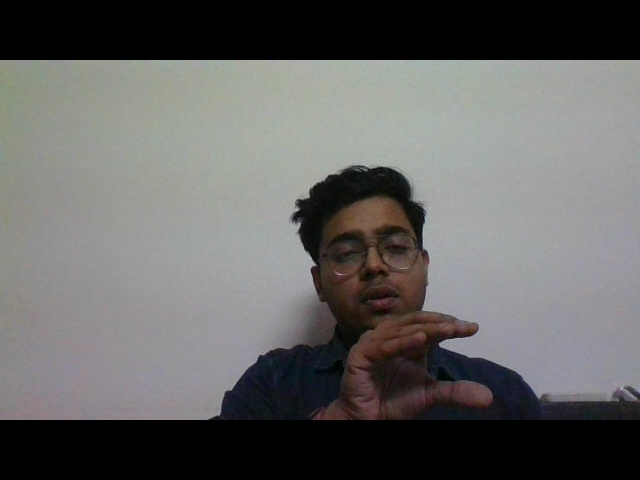no: (317, 299, 532, 429)
